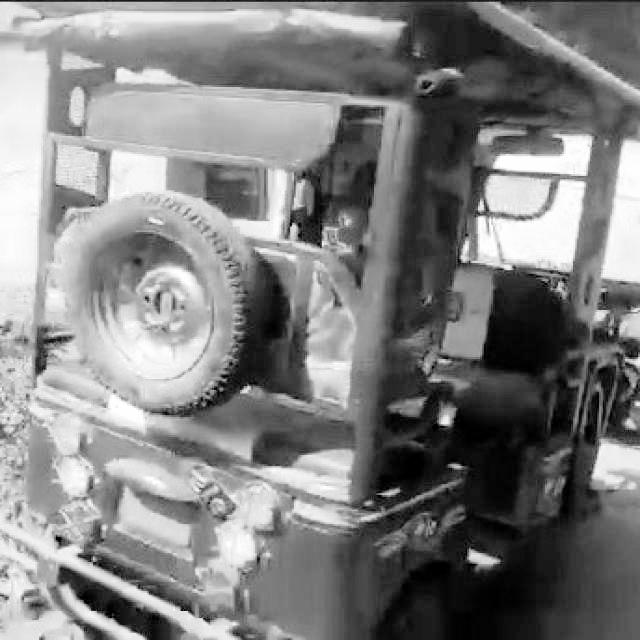Toto: (14, 10, 638, 638)
